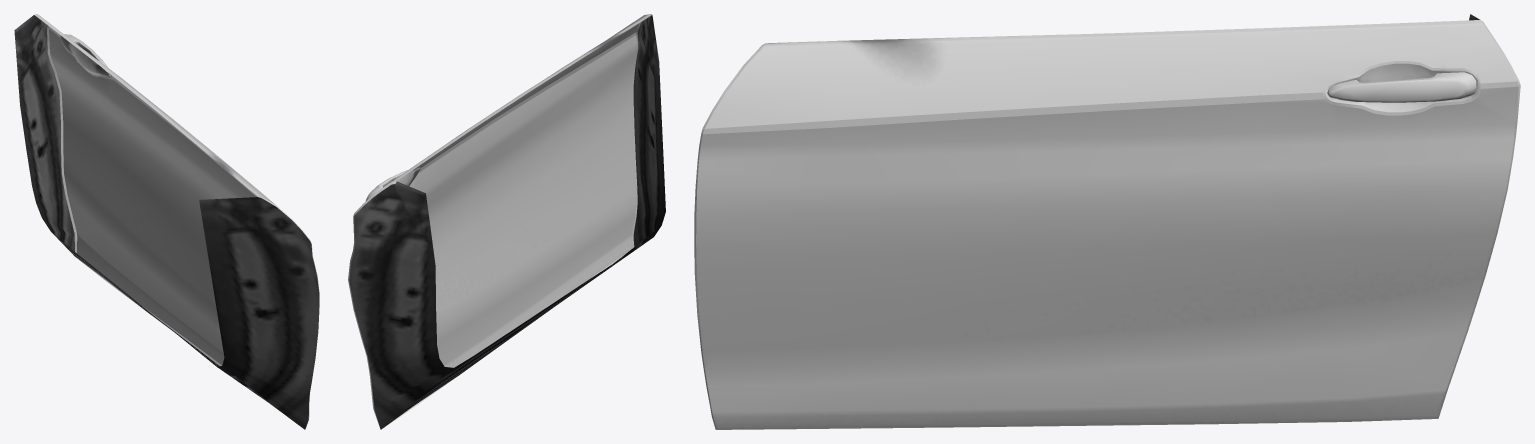
File: M2drivedoor.glb
3 views of the same model, side by side, from view 1: azimuth 30°, elevation 25°; view 2: azimuth 150°, elevation 25°; view 3: azimuth 270°, elevation 25° (orthographic). The views are drawn at different scales.
Visible parts, largest first — view 1: Object_84; view 2: Object_84; view 3: Object_84.
Boxes of the visible parts, x1,y1,x2,y2 form: Object_84: (14, 14, 319, 429); Object_84: (348, 14, 665, 429); Object_84: (694, 14, 1520, 429).
Bounding box in the file's own units: 0.217 × 0.6954 × 1.34.
1 material, 1 textured.
